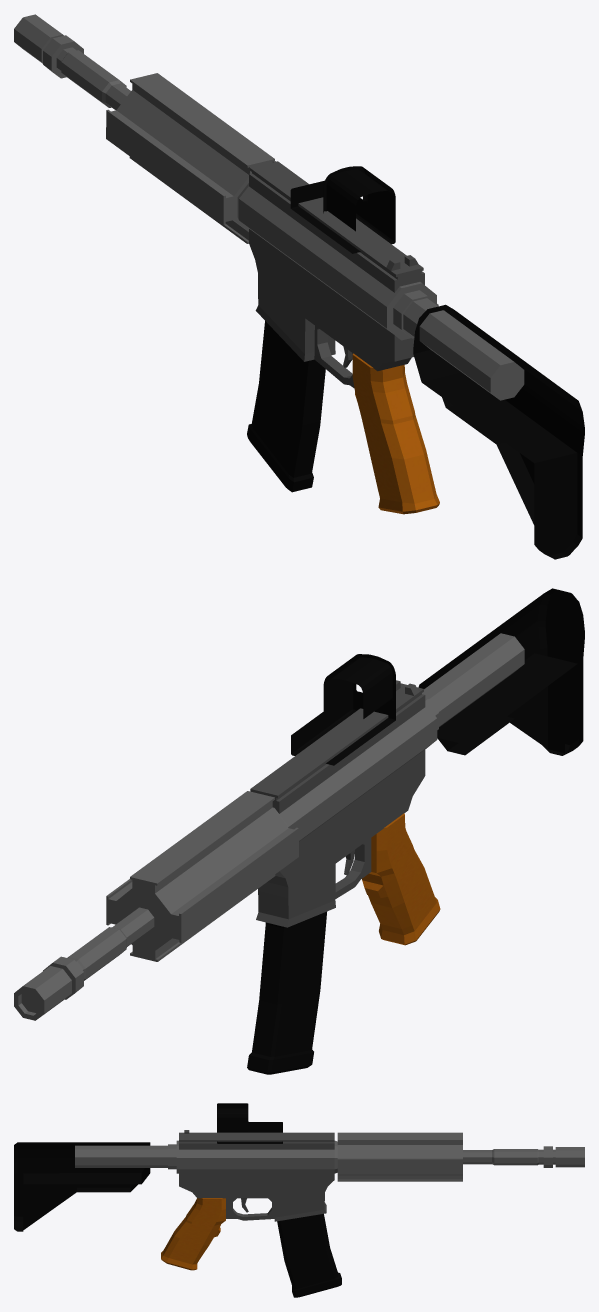
File: AssaultRifle.glb
3 views of the same model, one above another, from view 1: azimuth 30°, elevation 25°; view 2: azimuth 150°, elevation 25°; view 3: azimuth 270°, elevation 25° (orthographic). The views are drawn at different scales.
Parts seen in each view (by area): view 1: Weapon, Magazine, HolographicSight; view 2: Weapon, Magazine, HolographicSight; view 3: Weapon, Magazine, HolographicSight.
Boxes of the visible parts, box(x1,y1,x2,y2) form: Weapon: box(14, 14, 584, 559); Magazine: box(247, 321, 325, 492); HolographicSight: box(290, 166, 395, 253); Weapon: box(14, 588, 584, 1020); Magazine: box(247, 911, 327, 1074); HolographicSight: box(291, 654, 395, 765); Weapon: box(14, 1130, 584, 1270); Magazine: box(277, 1214, 341, 1297); HolographicSight: box(217, 1103, 282, 1143).
Size of the model in its own units: 0.3599 by 1.62 by 4.45.
1 material, 1 textured.
